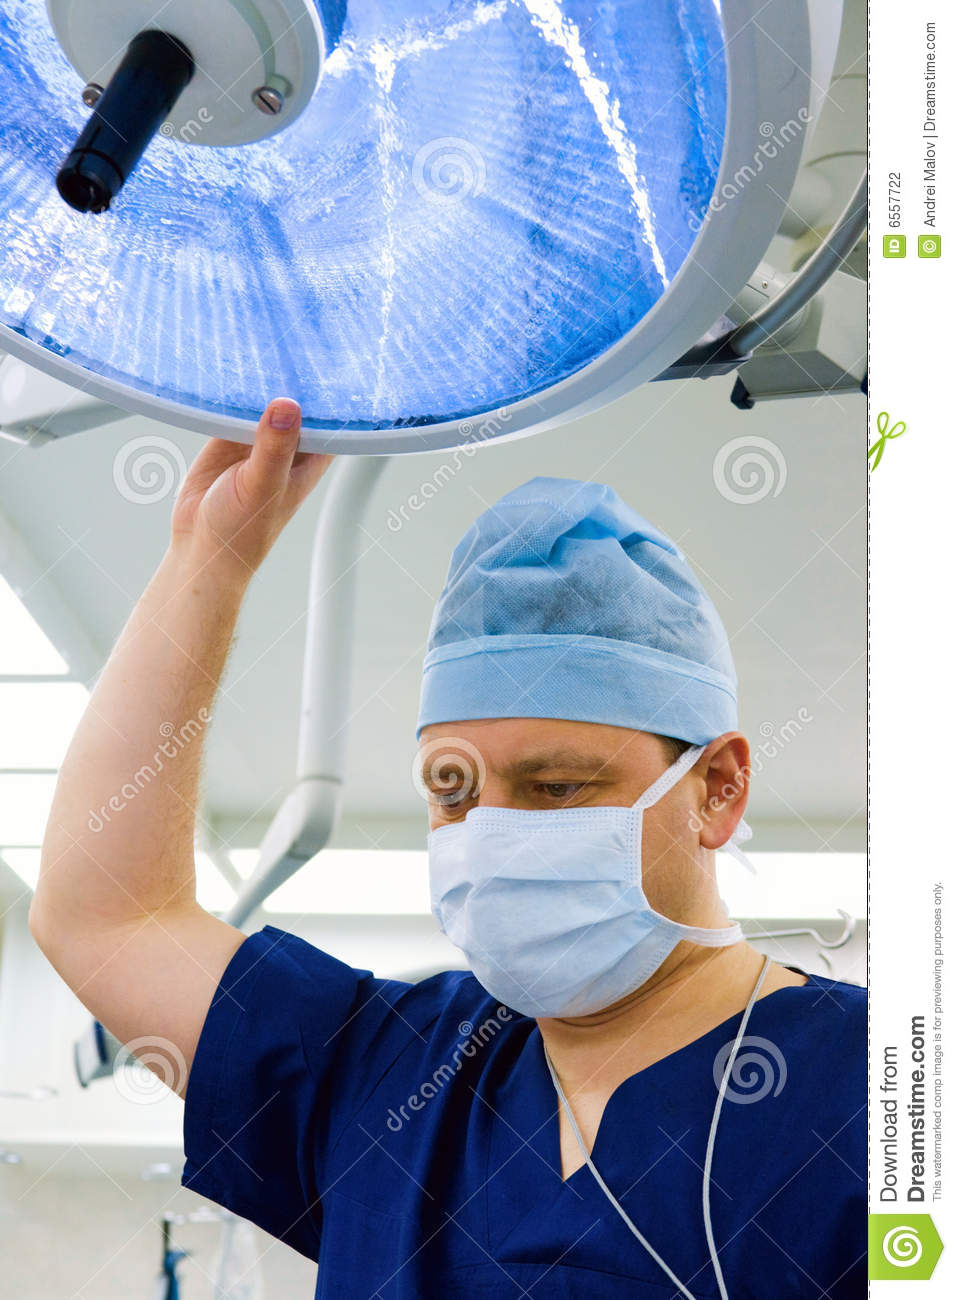mask: (422, 803, 666, 1009)
